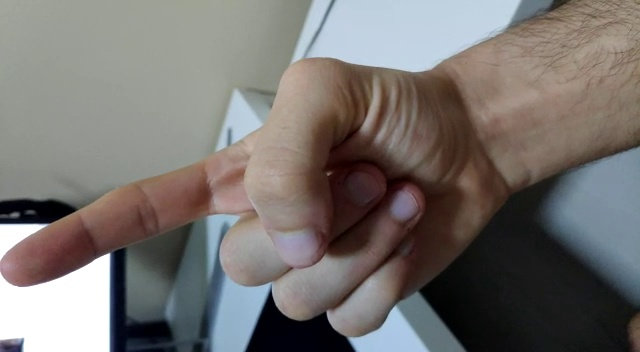One: (1, 26, 425, 348)
